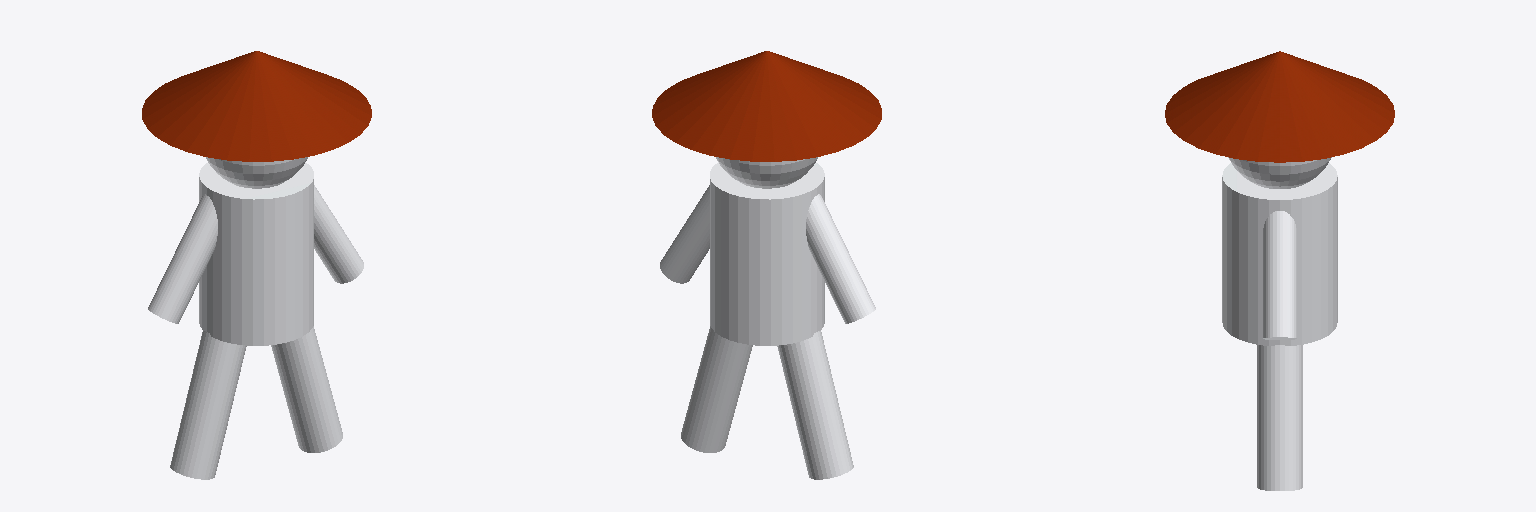
3 renders of one model, left to right at view 1: azimuth 30°, elevation 25°; view 2: azimuth 150°, elevation 25°; view 3: azimuth 270°, elevation 25°, orthographic.
Parts seen in each view (by area): view 1: Cone, Cylinder, Cylinder.001, Cylinder.002, Cylinder.003, Cylinder.004, Sphere; view 2: Cone, Cylinder, Cylinder.001, Cylinder.002, Cylinder.003, Cylinder.004, Sphere; view 3: Cone, Cylinder, Cylinder.002, Cylinder.004, Sphere.
Boxes of the visible parts, box(x1,y1,x2,y2) form: Cone: box(142, 51, 371, 161); Cylinder: box(199, 162, 313, 345); Cylinder.001: box(170, 331, 246, 479); Cylinder.002: box(271, 326, 342, 452); Cylinder.003: box(148, 194, 217, 323); Cylinder.004: box(314, 185, 363, 283); Sphere: box(206, 157, 307, 188); Cone: box(652, 51, 881, 161); Cylinder: box(710, 162, 824, 345); Cylinder.001: box(777, 331, 853, 479); Cylinder.002: box(681, 326, 752, 452); Cylinder.003: box(806, 194, 875, 323); Cylinder.004: box(660, 185, 709, 283); Sphere: box(716, 157, 817, 188); Cone: box(1165, 51, 1394, 162); Cylinder: box(1222, 163, 1337, 345); Cylinder.002: box(1257, 345, 1302, 490); Cylinder.004: box(1263, 211, 1296, 339); Sphere: box(1228, 157, 1331, 188).
Size of the model in its own units: 1.27 by 2.36 by 1.2.
2 materials, 2 textured.